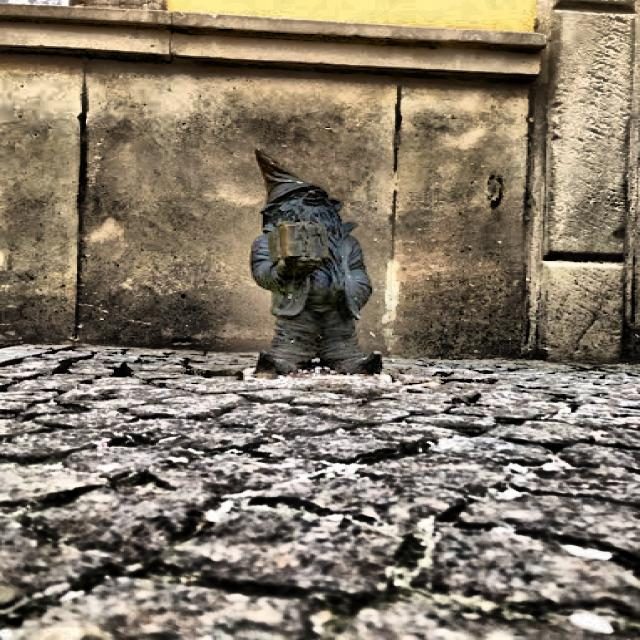Suvenirek: (250, 151, 382, 374)
